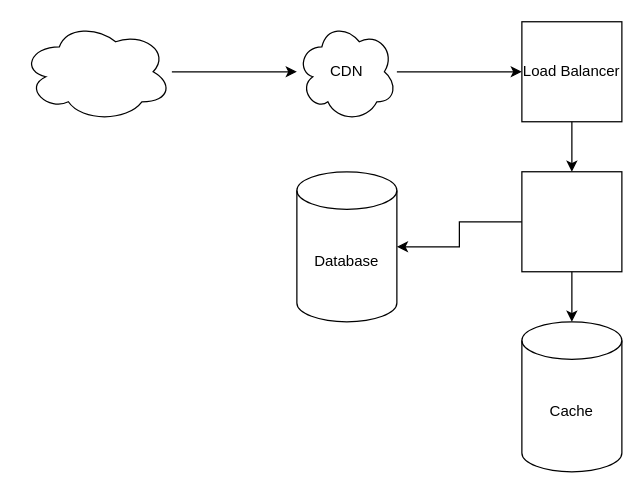
Some shapes in this 644 by 494 pixel diagram are drawn without their labels. The shapes that lost their labels are listed below. From the top down, each one's centre as x and y in pixels, then its label:
At point (96, 71): "Client".
At point (571, 221): "Application Servers".
